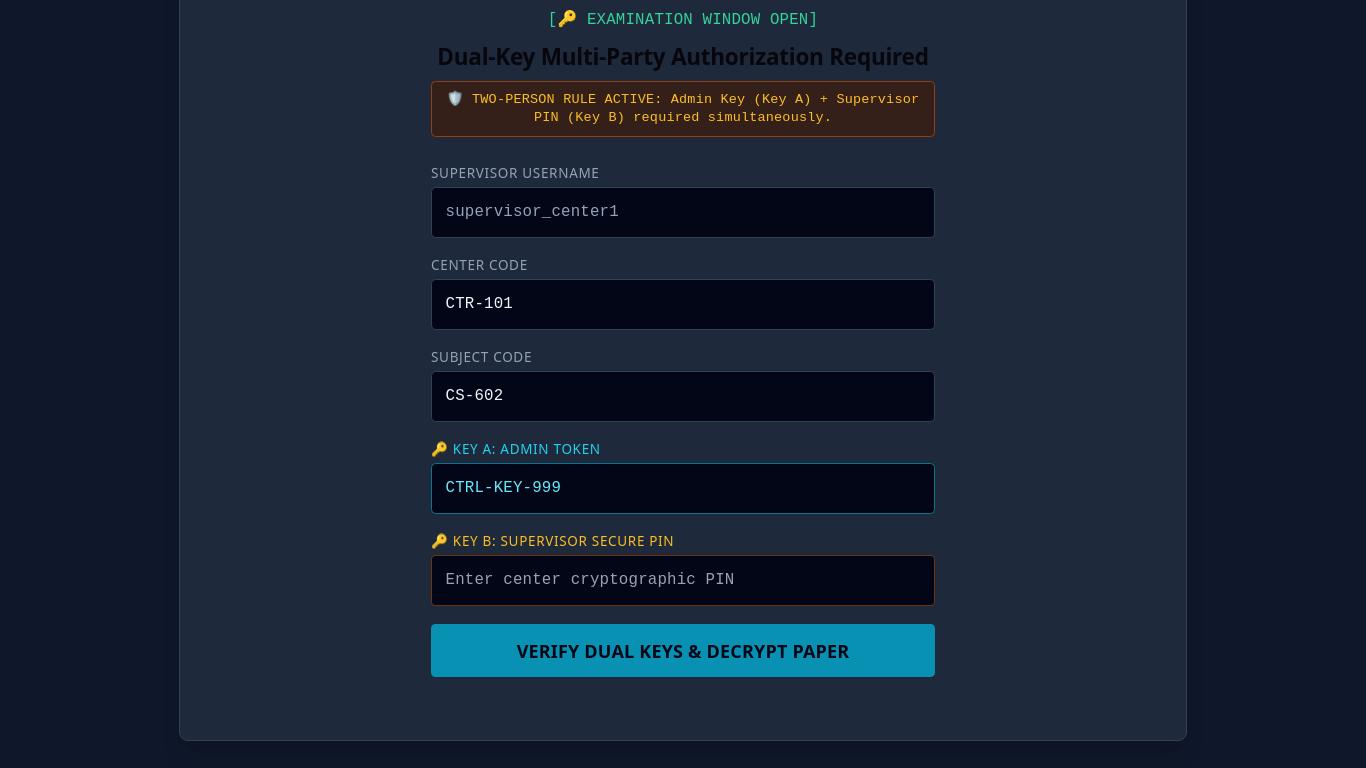
Test: ExamDashboard Auto-Logout Timer › renders the initial session countdown correctly after authorization
(page scrolled)
Type "1234" into the password field labelled "🔑 Key B: Supervisor Secure PIN" at (683, 580), box x1=431 y1=554 x2=935 y2=606
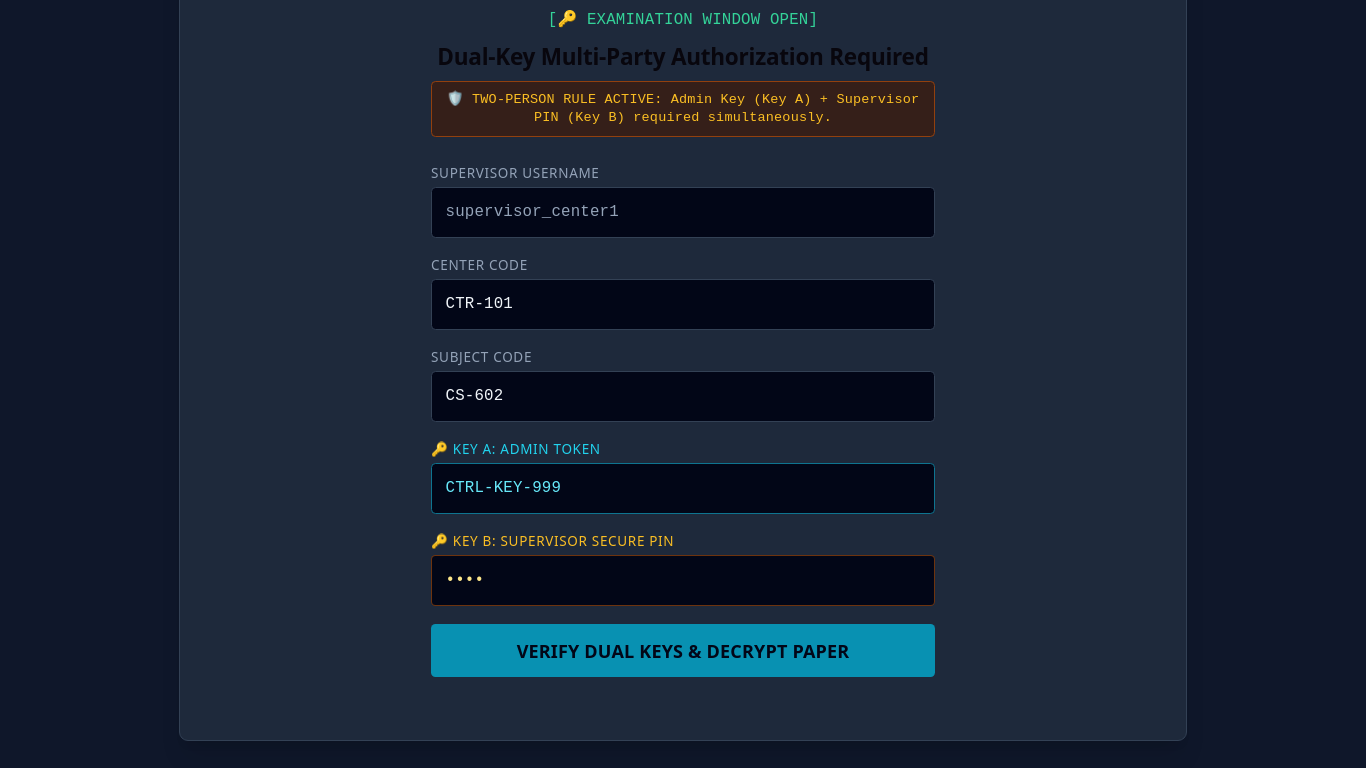
Submit the form named "supervisor secure pin", box x1=431 y1=164 x2=935 y2=677
(page scrolled)
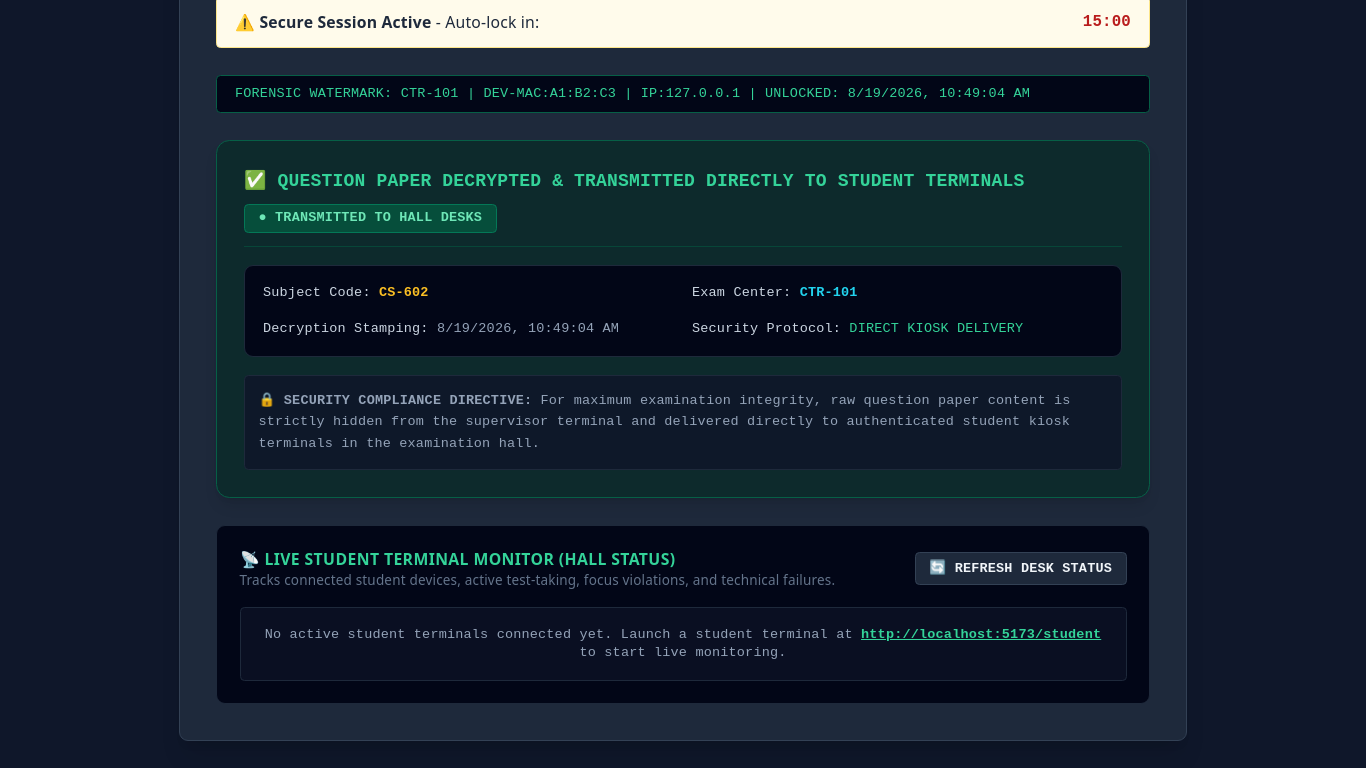
Check: the text "15:00" is shown, box x1=1083 y1=10 x2=1131 y2=33
